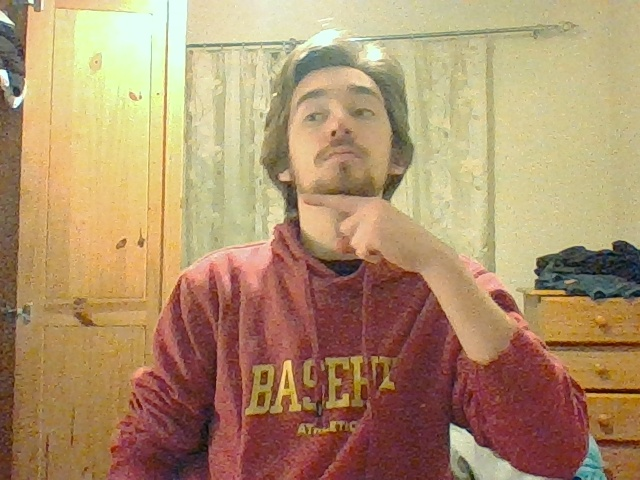son: (301, 189, 398, 257)
